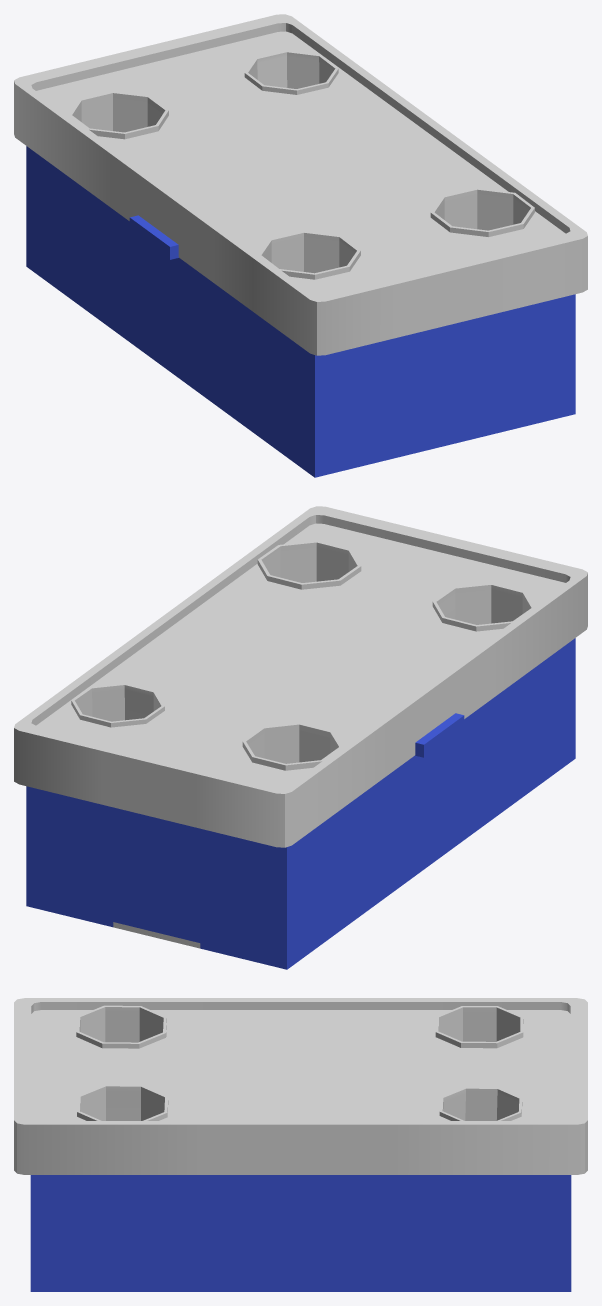
Rendered from IceBox_KW.fbx.
3 views of the same model, one above another, from view 1: azimuth 30°, elevation 25°; view 2: azimuth 150°, elevation 25°; view 3: azimuth 270°, elevation 25° (orthographic). The views are drawn at different scales.
Parts seen in each view (by area): view 1: icebox; view 2: icebox; view 3: icebox.
Part boxes in pixels (bbox=[...]): icebox: bbox=[14, 14, 587, 477]; icebox: bbox=[14, 506, 587, 969]; icebox: bbox=[14, 998, 587, 1291].
Bounding box in the file's own units: 90.34 × 55.12 × 168.
